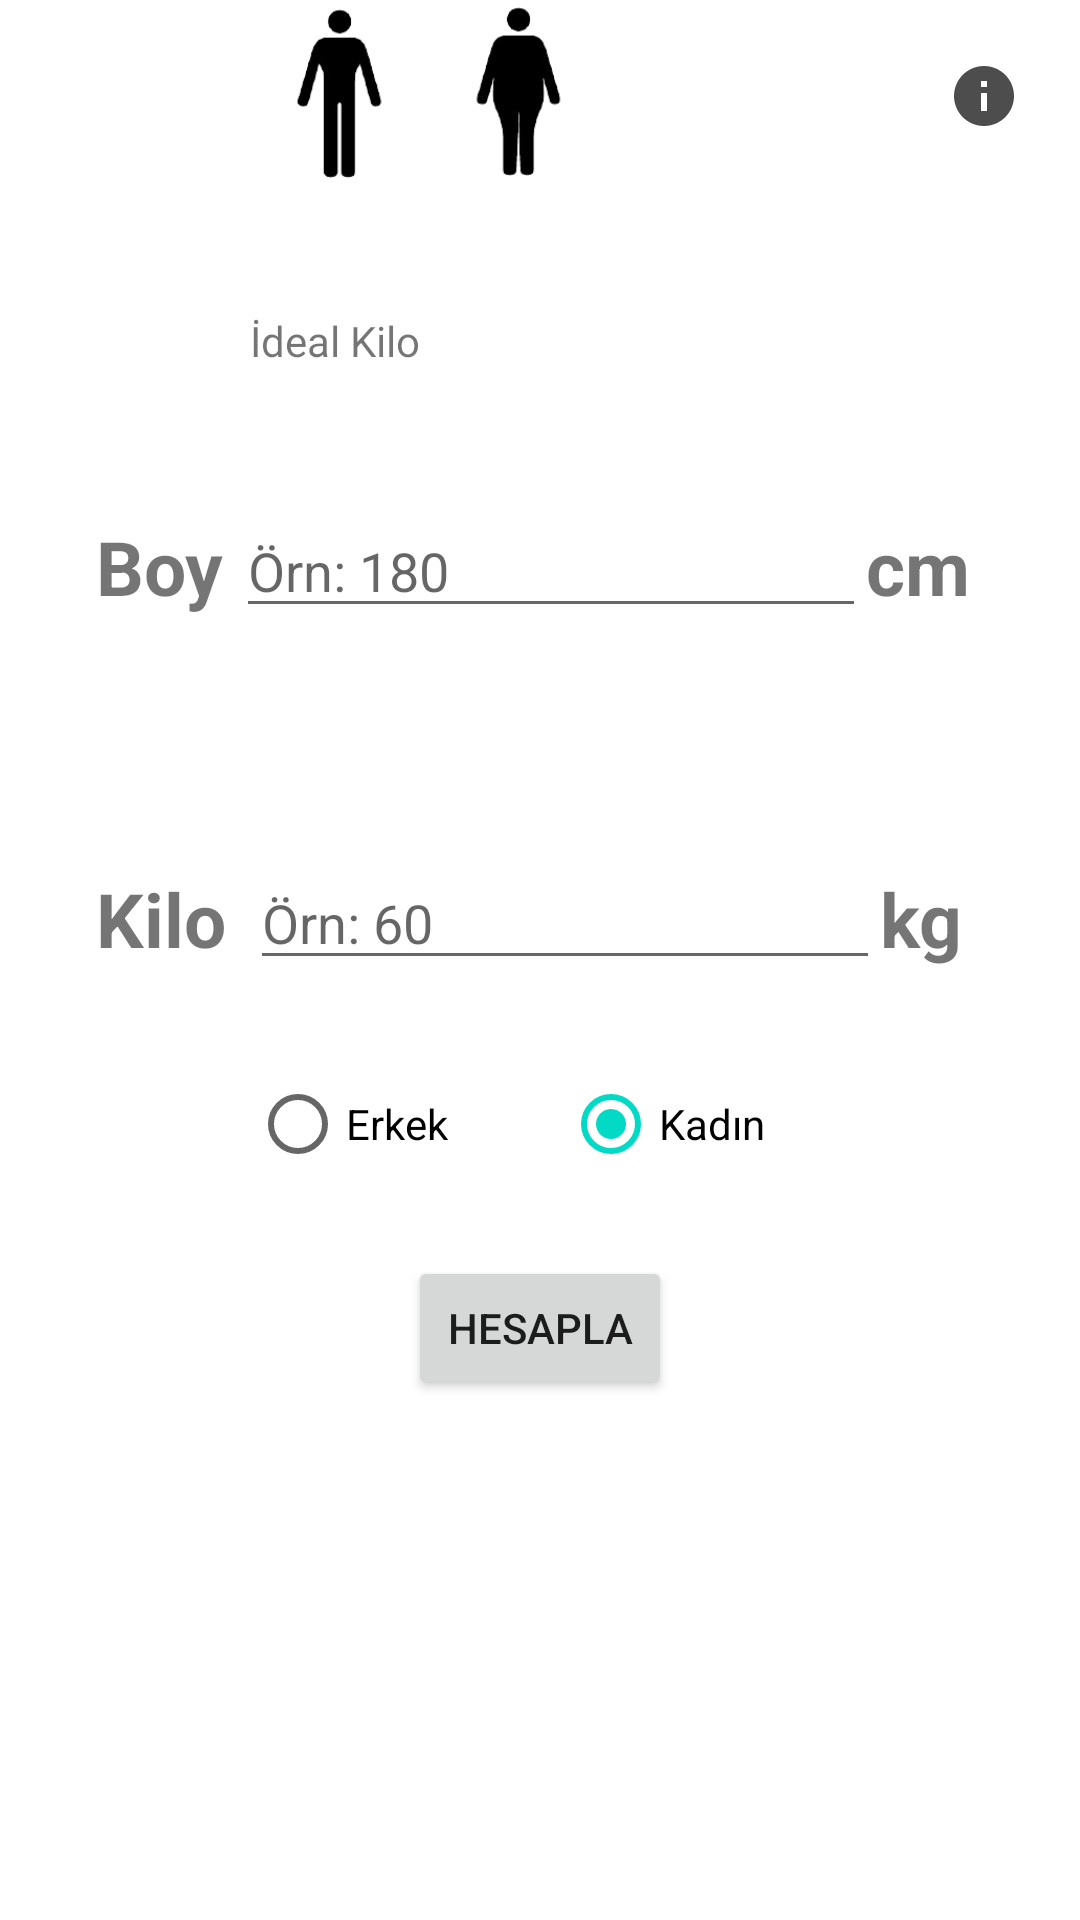

Locate icon controls on the screen. Image size 1080w x 1920h, boxes as (x1, y1, x2, y2).
body ultra: (297, 9, 382, 178)
body ultra fat: (476, 7, 561, 176)
info: (954, 66, 1014, 126)
